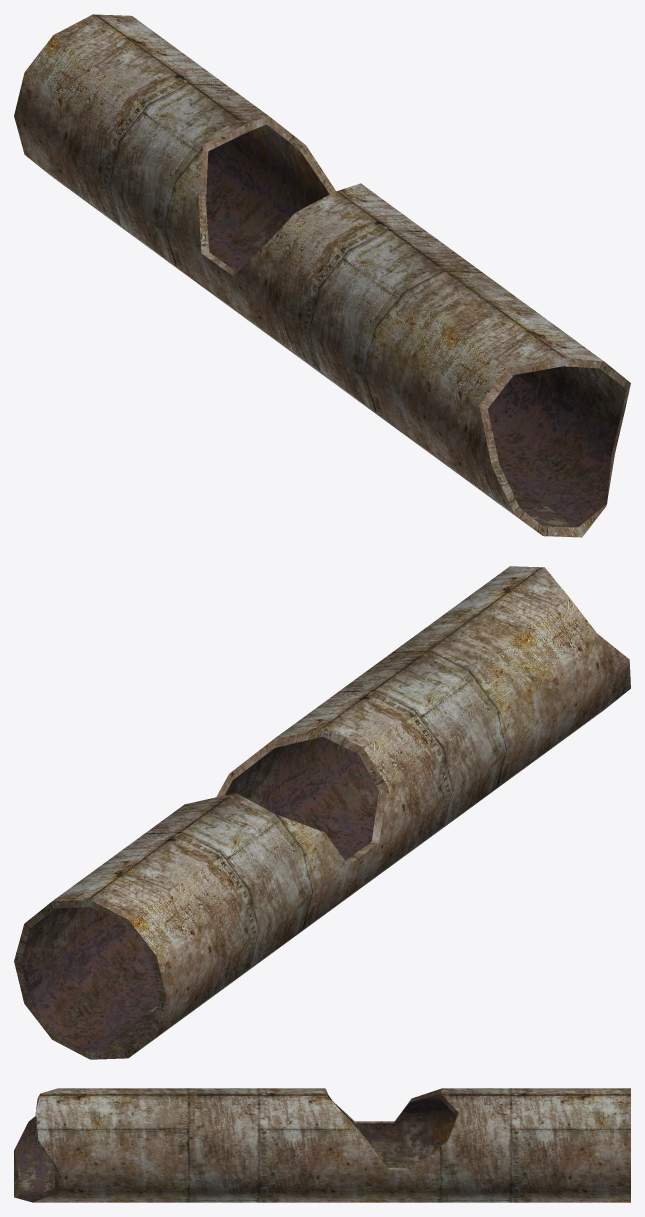
The model's file is railpipe_d02.glb.
3 renders of one model, top to bottom at view 1: azimuth 30°, elevation 25°; view 2: azimuth 150°, elevation 25°; view 3: azimuth 270°, elevation 25°, orthographic. The views are drawn at different scales.
Bounding box in the file's own units: 66 × 66 × 355.
2 materials, 2 textured.
